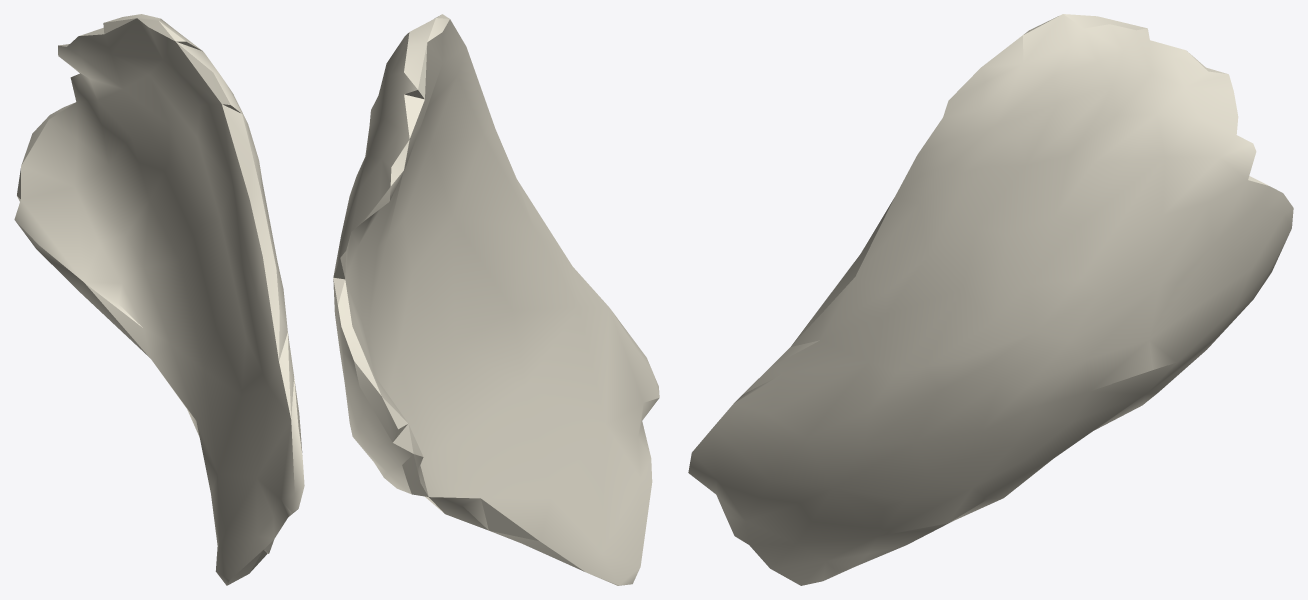
File: fma321702-r_mm1443m.glb
3 renders of one model, left to right at view 1: azimuth 30°, elevation 25°; view 2: azimuth 150°, elevation 25°; view 3: azimuth 270°, elevation 25°, orthographic. The views are drawn at different scales.
Visible parts, largest first — view 1: FMA321702-R_MM1443M; view 2: FMA321702-R_MM1443M; view 3: FMA321702-R_MM1443M.
Boxes of the visible parts, <box> form: FMA321702-R_MM1443M: <box>14,14,304,585</box>; FMA321702-R_MM1443M: <box>333,14,659,585</box>; FMA321702-R_MM1443M: <box>688,14,1293,585</box>.
Size of the model in its own units: 0.00157 by 0.00568 by 0.00524.
